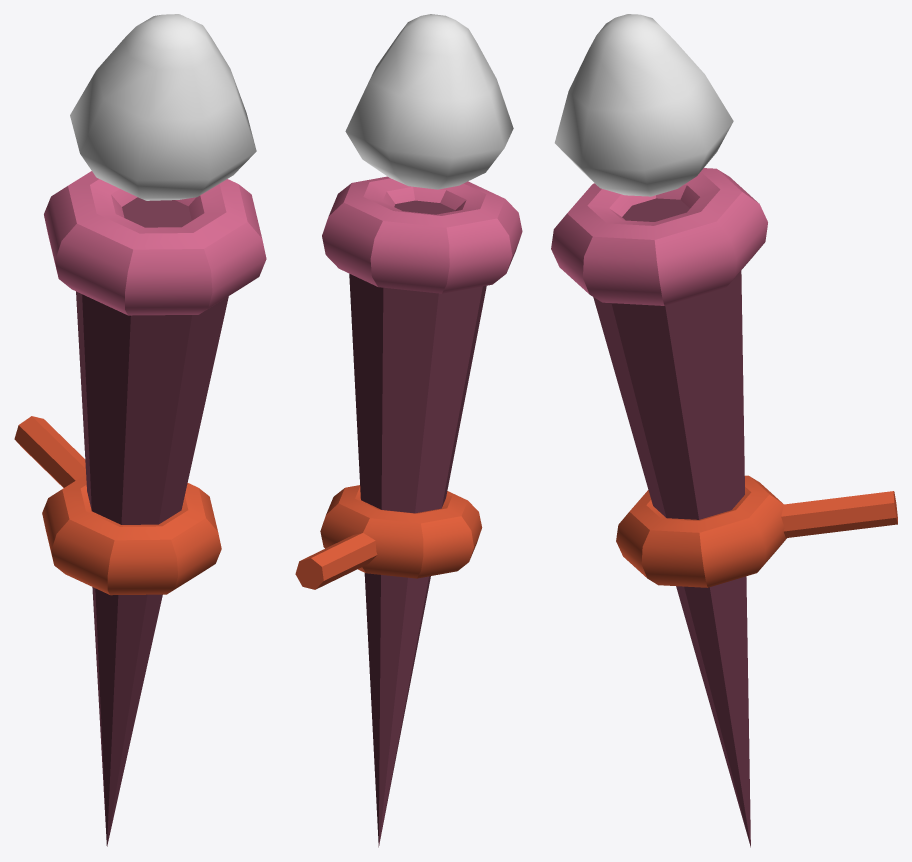
The model's file is Torch 1.fbx.
The picture shows the model from 3 angles, left to right: view 1: azimuth 30°, elevation 25°; view 2: azimuth 150°, elevation 25°; view 3: azimuth 270°, elevation 25°; orthographic projection. The views are drawn at different scales.
Parts seen in each view (by area): view 1: Torch, FlameOuter; view 2: Torch, FlameOuter; view 3: Torch, FlameOuter.
Boxes of the visible parts, x1,y1,x2,y2 form: Torch: (14,171,266,846); FlameOuter: (70,14,256,200); Torch: (295,176,522,847); FlameOuter: (345,14,513,189); Torch: (551,168,897,847); FlameOuter: (554,14,733,196).
Bounding box in the file's own units: 49.3 × 206 × 78.04.
